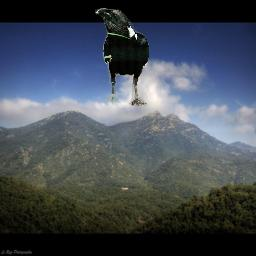Crow: (95, 8, 149, 106)
